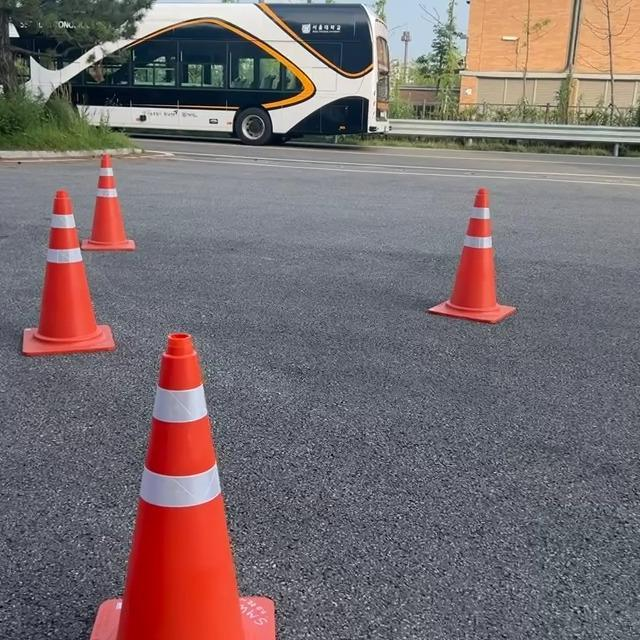fallen_object: (92, 317, 316, 632), (0, 193, 153, 367), (399, 189, 530, 338), (77, 140, 172, 260)
